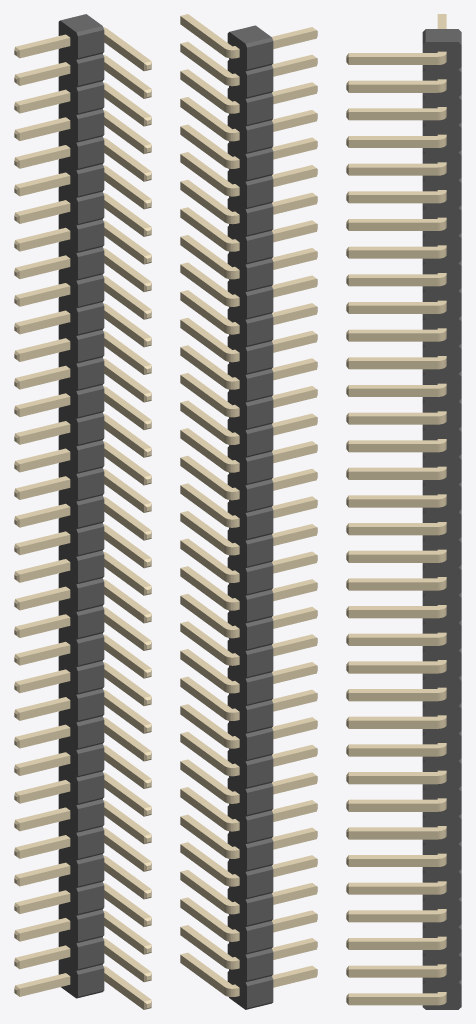
The model's file is PinHeader_1x35_P1.00mm_Horizontal.glb.
3 renders of one model, left to right at view 1: azimuth 30°, elevation 25°; view 2: azimuth 210°, elevation 25°; view 3: azimuth 270°, elevation 25°, orthographic.
Visible parts, largest first — view 1: Shape_IndexedFaceSet.004, Shape_IndexedFaceSet.010, Shape_IndexedFaceSet.070, Shape_IndexedFaceSet.178, Shape_IndexedFaceSet.016, Shape_IndexedFaceSet.028, Shape_IndexedFaceSet.040, Shape_IndexedFaceSet.058, Shape_IndexedFaceSet.076, Shape_IndexedFaceSet.094, Shape_IndexedFaceSet.100, Shape_IndexedFaceSet.106 (+130 smaller); view 2: Shape_IndexedFaceSet.003, Shape_IndexedFaceSet.049, Shape_IndexedFaceSet.157, Shape_IndexedFaceSet.187, Shape_IndexedFaceSet.019, Shape_IndexedFaceSet.025, Shape_IndexedFaceSet.037, Shape_IndexedFaceSet.043, Shape_IndexedFaceSet.055, Shape_IndexedFaceSet.073, Shape_IndexedFaceSet.079, Shape_IndexedFaceSet.085 (+130 smaller); view 3: Shape_IndexedFaceSet.003, Shape_IndexedFaceSet.495, Shape_IndexedFaceSet.506, Shape_IndexedFaceSet.515, Shape_IndexedFaceSet.541, Shape_IndexedFaceSet.571, Shape_IndexedFaceSet.590, Shape_IndexedFaceSet.605, Shape_IndexedFaceSet.620, Shape_IndexedFaceSet.631, Shape_IndexedFaceSet.501, Shape_IndexedFaceSet.510 (+60 smaller).
Boxes of the visible parts, x1=… form: Shape_IndexedFaceSet.004: x1=58, y1=20, x2=77, y2=998; Shape_IndexedFaceSet.010: x1=78, y1=57, x2=104, y2=85; Shape_IndexedFaceSet.070: x1=78, y1=333, x2=104, y2=361; Shape_IndexedFaceSet.178: x1=78, y1=830, x2=104, y2=858; Shape_IndexedFaceSet.016: x1=78, y1=85, x2=104, y2=113; Shape_IndexedFaceSet.028: x1=78, y1=140, x2=104, y2=168; Shape_IndexedFaceSet.040: x1=78, y1=195, x2=104, y2=223; Shape_IndexedFaceSet.058: x1=78, y1=278, x2=104, y2=306; Shape_IndexedFaceSet.076: x1=78, y1=361, x2=104, y2=389; Shape_IndexedFaceSet.094: x1=78, y1=444, x2=104, y2=472; Shape_IndexedFaceSet.100: x1=78, y1=471, x2=104, y2=499; Shape_IndexedFaceSet.106: x1=78, y1=499, x2=104, y2=527; Shape_IndexedFaceSet.003: x1=227, y1=32, x2=246, y2=1009; Shape_IndexedFaceSet.049: x1=247, y1=234, x2=273, y2=262; Shape_IndexedFaceSet.157: x1=247, y1=731, x2=273, y2=759; Shape_IndexedFaceSet.187: x1=247, y1=869, x2=273, y2=897; Shape_IndexedFaceSet.019: x1=247, y1=96, x2=273, y2=124; Shape_IndexedFaceSet.025: x1=247, y1=124, x2=273, y2=152; Shape_IndexedFaceSet.037: x1=247, y1=179, x2=273, y2=207; Shape_IndexedFaceSet.043: x1=247, y1=207, x2=273, y2=235; Shape_IndexedFaceSet.055: x1=247, y1=262, x2=273, y2=290; Shape_IndexedFaceSet.073: x1=247, y1=345, x2=273, y2=373; Shape_IndexedFaceSet.079: x1=247, y1=372, x2=273, y2=400; Shape_IndexedFaceSet.085: x1=247, y1=400, x2=273, y2=428; Shape_IndexedFaceSet.003: x1=422, y1=42, x2=461, y2=1009; Shape_IndexedFaceSet.495: x1=348, y1=582, x2=437, y2=590; Shape_IndexedFaceSet.506: x1=348, y1=665, x2=437, y2=673; Shape_IndexedFaceSet.515: x1=348, y1=748, x2=437, y2=756; Shape_IndexedFaceSet.541: x1=348, y1=969, x2=437, y2=977; Shape_IndexedFaceSet.571: x1=348, y1=831, x2=437, y2=839; Shape_IndexedFaceSet.590: x1=348, y1=250, x2=437, y2=258; Shape_IndexedFaceSet.605: x1=348, y1=333, x2=437, y2=341; Shape_IndexedFaceSet.620: x1=348, y1=499, x2=437, y2=507; Shape_IndexedFaceSet.631: x1=348, y1=416, x2=437, y2=424; Shape_IndexedFaceSet.501: x1=348, y1=610, x2=437, y2=618; Shape_IndexedFaceSet.510: x1=348, y1=637, x2=437, y2=645.
Bounding box in the file's own units: 1.34 × 13.78 × 1.48.
